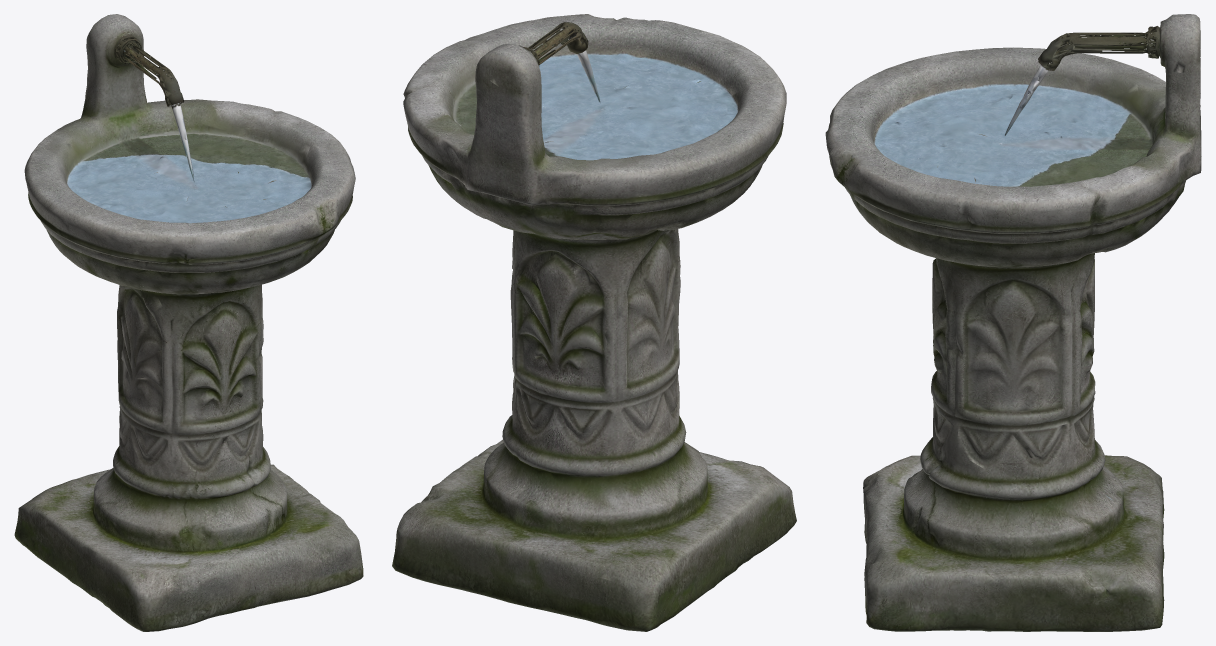
The model's file is Ancient_Stone_Fountai.fbx.
3 renders of one model, left to right at view 1: azimuth 30°, elevation 25°; view 2: azimuth 150°, elevation 25°; view 3: azimuth 270°, elevation 25°, orthographic. The views are drawn at different scales.
Visible parts, largest first — view 1: Ancient_Stone_Fountai_LOD0; view 2: Ancient_Stone_Fountai_LOD0; view 3: Ancient_Stone_Fountai_LOD0.
Part boxes in pixels (x1,y1,x2,y2): Ancient_Stone_Fountai_LOD0: [14, 14, 363, 631]; Ancient_Stone_Fountai_LOD0: [392, 14, 796, 631]; Ancient_Stone_Fountai_LOD0: [825, 14, 1201, 631].
Size of what is drawn, in the model's own units: 1.16 by 1.9 by 1.16.
1 material, 1 textured.
